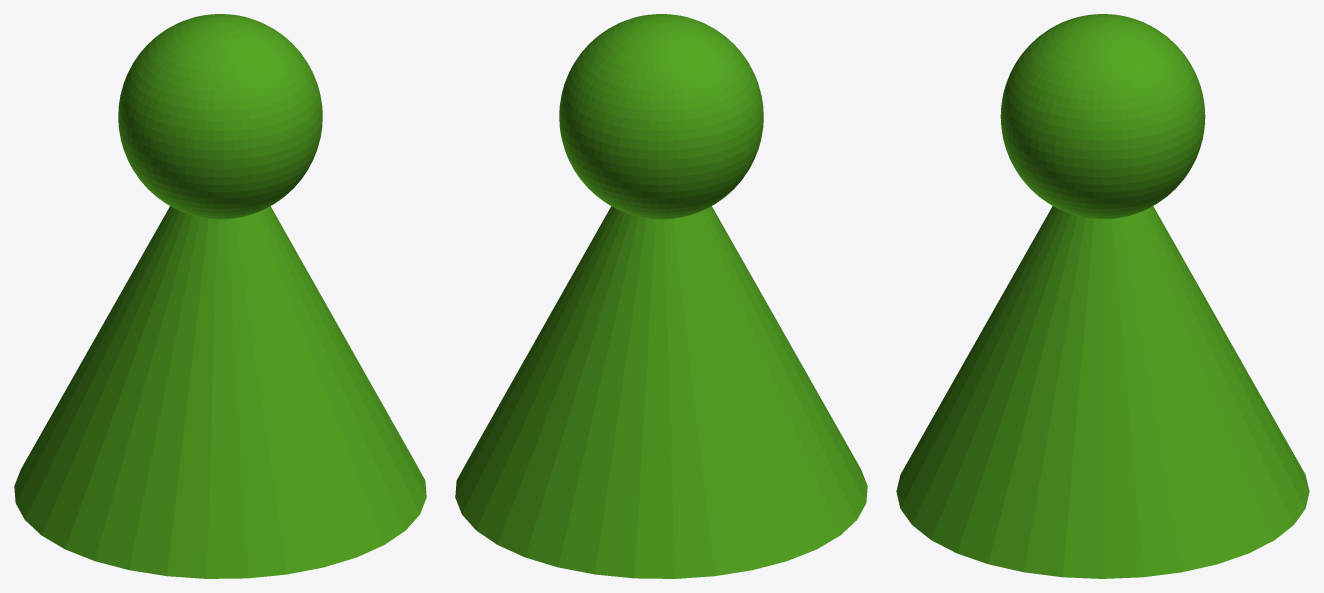
Rendered from Figure.obj.
3 renders of one model, left to right at view 1: azimuth 30°, elevation 25°; view 2: azimuth 150°, elevation 25°; view 3: azimuth 270°, elevation 25°, orthographic.
Parts seen in each view (by area): view 1: Figure_Cone.001; view 2: Figure_Cone.001; view 3: Figure_Cone.001.
Boxes of the visible parts, box(x1,y1,x2,y2) form: Figure_Cone.001: box(14, 14, 426, 578); Figure_Cone.001: box(455, 14, 867, 578); Figure_Cone.001: box(896, 14, 1309, 578).
Bounding box in the file's own units: 2 × 2.5 × 2.
